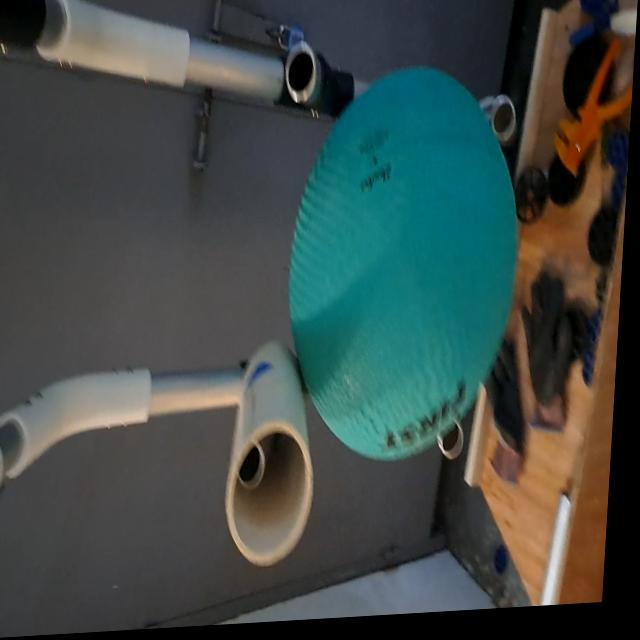ALGAE: (278, 50, 536, 464)
CORAL: (220, 331, 322, 570)
